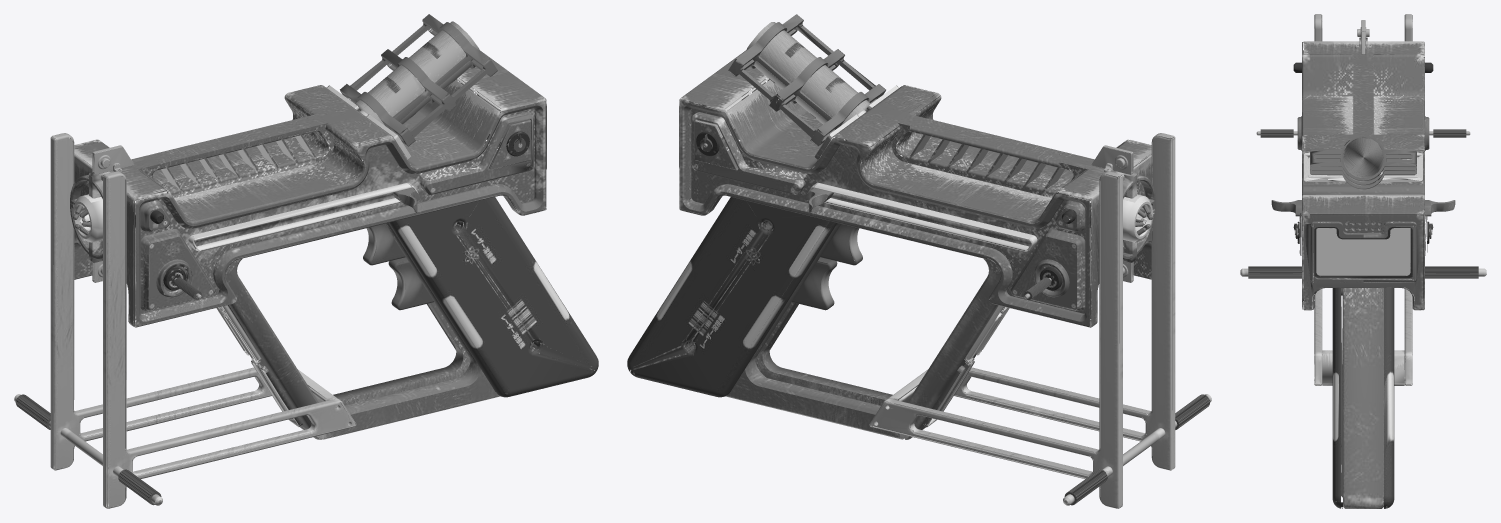
File: outil-de-decoupe-laser.glb
The picture shows the model from 3 angles, left to right: view 1: azimuth 30°, elevation 25°; view 2: azimuth 150°, elevation 25°; view 3: azimuth 270°, elevation 25°; orthographic projection. The views are drawn at different scales.
Visible parts, largest first — view 1: Main_shape, Laser_Welding_Machine_v26_2, Handle, Laser_Welding_Machine_v26_14, Laser_Welding_Machine_v26_15, Laser_Welding_Machine_v26_8, Laser_Welding_Machine_v26_7, Trigger_2, Trigger_1, Laser_1, Laser_Welding_Machine_v26_12; view 2: Main_shape, Laser_Welding_Machine_v26, Handle, Laser_Welding_Machine_v26_15, Laser_Welding_Machine_v26_14, Laser_Welding_Machine_v26_8, Laser_Welding_Machine_v26_7, Trigger_2, Trigger_1, Laser_1, Laser_Welding_Machine_v26_12; view 3: Main_shape, Handle, Laser_Welding_Machine_v26, Laser_Welding_Machine_v26_2, Laser_Welding_Machine_v26_8, Laser_Welding_Machine_v26_7, Laser_Welding_Machine_v26_14, Laser_Welding_Machine_v26_15, Laser_Welding_Machine_v26_13, Laser_Welding_Machine_v26_10, Laser_Welding_Machine_v26_11, Laser_Welding_Machine_v26_9 (+4 smaller).
Part boxes in pixels (box(x1,y1,x2,y2)): Main_shape: box(70, 50, 546, 327); Laser_Welding_Machine_v26_2: box(388, 197, 598, 397); Handle: box(216, 180, 591, 439); Laser_Welding_Machine_v26_14: box(103, 171, 356, 508); Laser_Welding_Machine_v26_15: box(50, 133, 271, 470); Laser_Welding_Machine_v26_8: box(340, 14, 497, 146); Laser_Welding_Machine_v26_7: box(355, 21, 479, 125); Trigger_2: box(388, 257, 433, 310); Trigger_1: box(363, 224, 405, 265); Laser_1: box(92, 145, 134, 174); Laser_Welding_Machine_v26_12: box(14, 394, 162, 505); Main_shape: box(679, 50, 1155, 327); Laser_Welding_Machine_v26: box(627, 197, 837, 397); Handle: box(633, 179, 1009, 439); Laser_Welding_Machine_v26_15: box(869, 171, 1122, 508); Laser_Welding_Machine_v26_14: box(954, 133, 1175, 470); Laser_Welding_Machine_v26_8: box(728, 14, 885, 146); Laser_Welding_Machine_v26_7: box(746, 22, 870, 125); Trigger_2: box(792, 257, 837, 310); Trigger_1: box(820, 224, 862, 265); Laser_1: box(1091, 145, 1133, 174); Laser_Welding_Machine_v26_12: box(1063, 394, 1211, 505); Main_shape: box(1293, 37, 1433, 310); Handle: box(1343, 288, 1383, 508); Laser_Welding_Machine_v26: box(1384, 288, 1394, 508); Laser_Welding_Machine_v26_2: box(1332, 288, 1342, 508); Laser_Welding_Machine_v26_8: box(1310, 135, 1416, 189); Laser_Welding_Machine_v26_7: box(1343, 137, 1383, 186); Laser_Welding_Machine_v26_14: box(1314, 14, 1322, 385); Laser_Welding_Machine_v26_15: box(1404, 14, 1412, 385); Laser_Welding_Machine_v26_13: box(1322, 350, 1404, 385); Laser_Welding_Machine_v26_10: box(1248, 266, 1301, 278); Laser_Welding_Machine_v26_11: box(1425, 266, 1478, 278); Laser_Welding_Machine_v26_9: box(1425, 200, 1455, 216).
Size of the model in its own units: 0.2611 by 0.1837 by 0.1275.
Materials: 3 (2 with a texture image).
